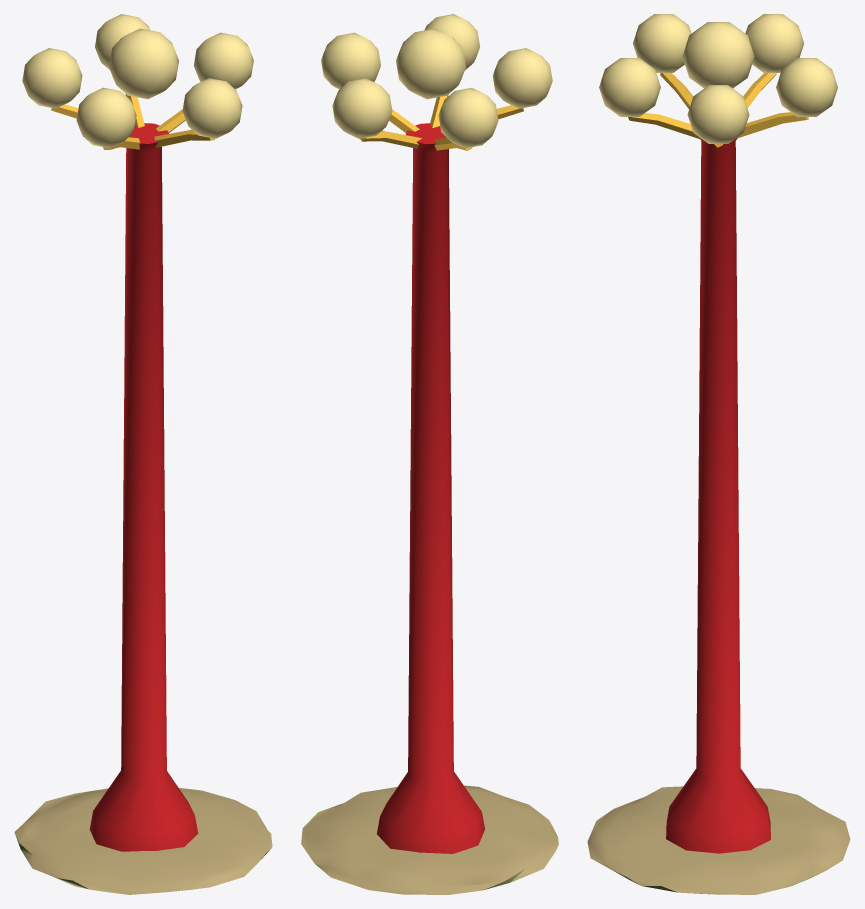
File: CarnivalLamp.fbx
3 views of the same model, side by side, from view 1: azimuth 30°, elevation 25°; view 2: azimuth 150°, elevation 25°; view 3: azimuth 270°, elevation 25° (orthographic).
Visible parts, largest first — view 1: CarnivalLamp; view 2: CarnivalLamp; view 3: CarnivalLamp.
Boxes of the visible parts, box(x1,y1,x2,y2) form: CarnivalLamp: box(14, 14, 272, 894); CarnivalLamp: box(301, 14, 558, 894); CarnivalLamp: box(587, 14, 850, 894).
Bounding box in the file's own units: 1.01 × 3.49 × 1.02.
Materials: 2 (2 with a texture image).
